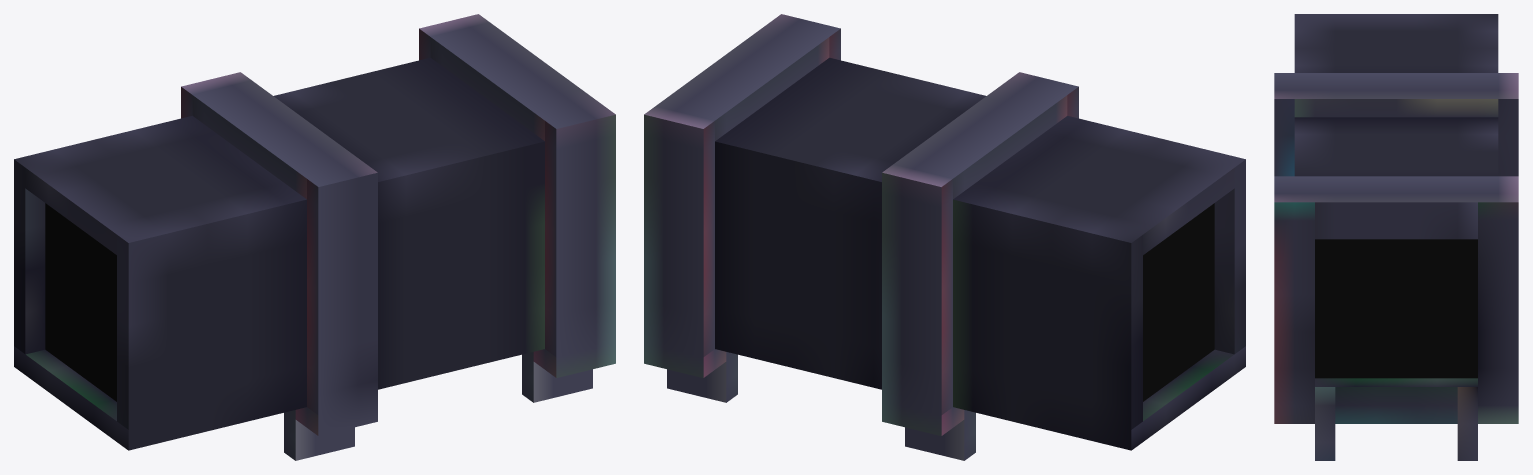
Rendered from Vent_Module_E_00.fbx.
3 renders of one model, left to right at view 1: azimuth 30°, elevation 25°; view 2: azimuth 150°, elevation 25°; view 3: azimuth 270°, elevation 25°, orthographic. The views are drawn at different scales.
Parts seen in each view (by area): view 1: Vent_Module_E_00; view 2: Vent_Module_E_00; view 3: Vent_Module_E_00.
Boxes of the visible parts, box(x1,y1,x2,y2) form: Vent_Module_E_00: box(14, 14, 615, 460); Vent_Module_E_00: box(644, 14, 1245, 460); Vent_Module_E_00: box(1274, 14, 1518, 460).
Bounding box in the file's own units: 120 × 70 × 60.
